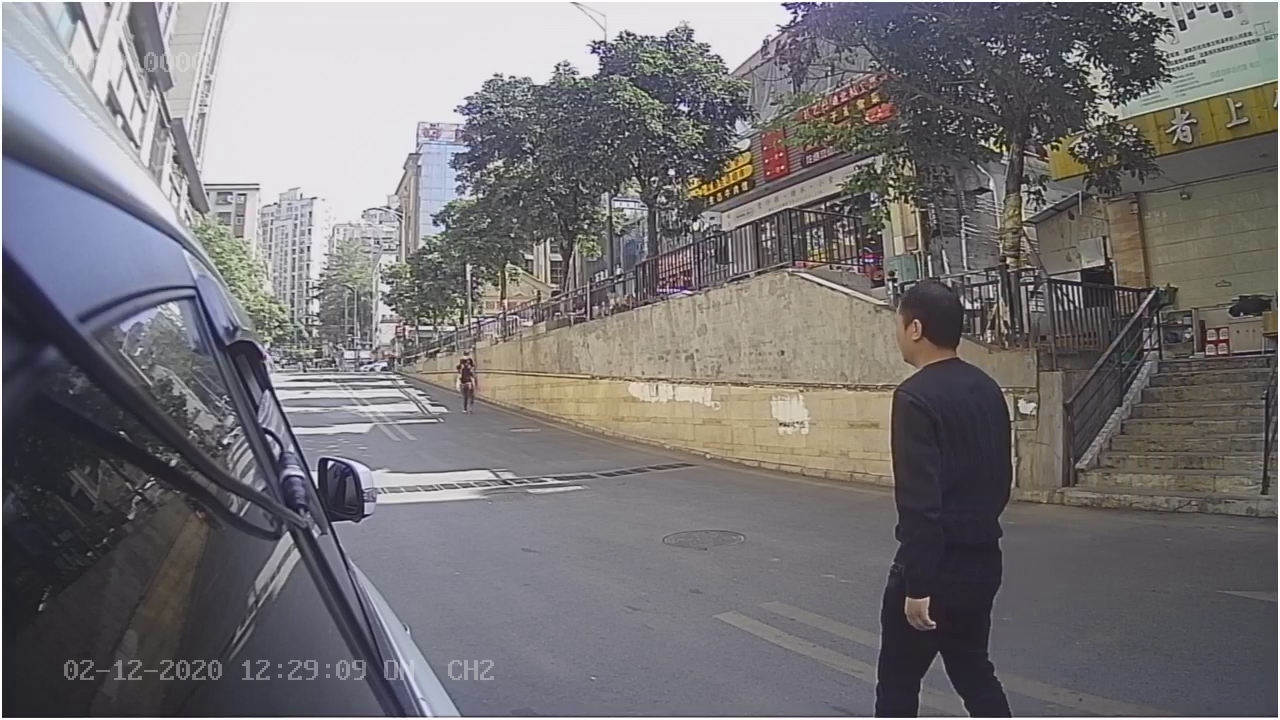person: (873, 277, 1058, 630)
